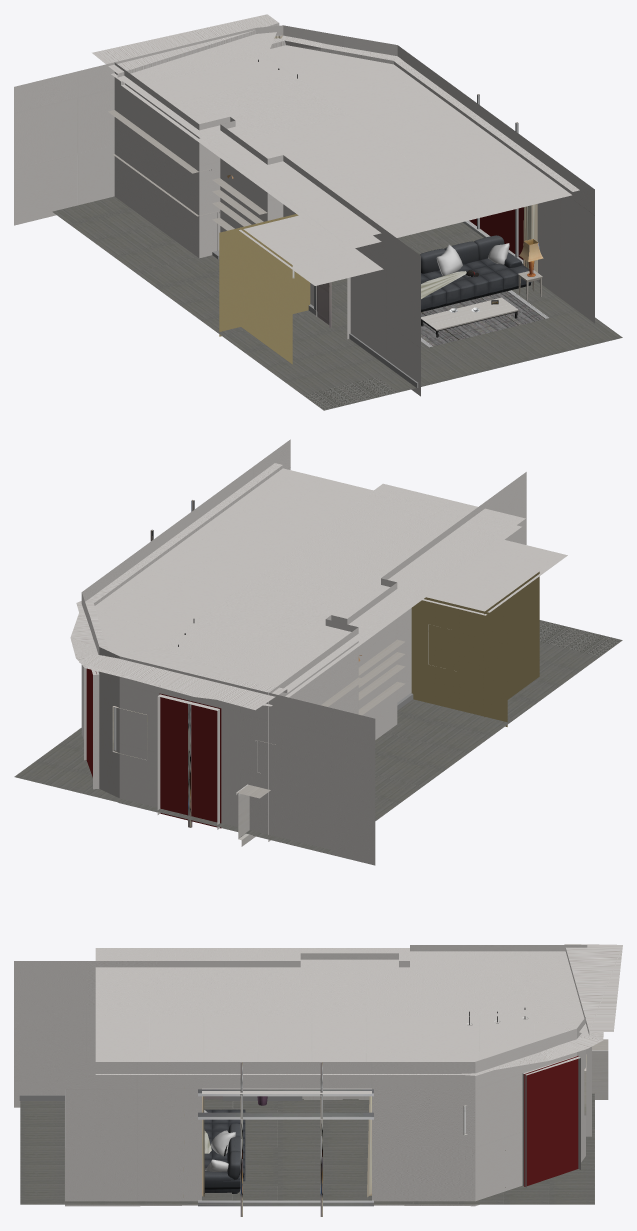
File: NvMingXingJia_03.FBX
3 views of the same model, one above another, from view 1: azimuth 30°, elevation 25°; view 2: azimuth 150°, elevation 25°; view 3: azimuth 270°, elevation 25° (orthographic). The views are drawn at different scales.
Parts seen in each view (by area): view 1: Object084, Plane013, objoct009, Plane011, Plane012, Object075, default001, 021, Object080, Box039, Object091, Box029 (+4 smaller); view 2: Object084, Plane011, Plane013, objoct009, Object075, Plane012, Object091, Box029, Box078; view 3: Plane011, Object084, Plane013, objoct009, Plane012, Object091, Object080, Box022, Box069, default001, Box078, Box070 (+2 smaller).
Part boxes in pixels (<box>): Object084: <box>92,14,477,242</box>; Plane013: <box>111,35,579,285</box>; objoct009: <box>52,196,622,410</box>; Plane011: <box>14,25,594,323</box>; Plane012: <box>114,62,420,396</box>; Object075: <box>219,214,310,364</box>; default001: <box>421,258,531,311</box>; 021: <box>421,290,548,347</box>; Object080: <box>420,235,522,273</box>; Box039: <box>421,297,518,330</box>; Object091: <box>469,207,523,259</box>; Box029: <box>212,178,267,230</box>; Object084: <box>79,483,525,710</box>; Plane011: <box>81,439,375,865</box>; Plane013: <box>70,463,567,706</box>; objoct009: <box>14,620,622,854</box>; Object075: <box>411,571,539,726</box>; Plane012: <box>268,472,526,841</box>; Object091: <box>86,668,221,828</box>; Box029: <box>358,639,405,715</box>; Box078: <box>236,784,270,846</box>; Plane011: <box>65,1017,591,1206</box>; Object084: <box>95,944,622,1035</box>; Plane013: <box>95,1016,603,1075</box>; objoct009: <box>20,1093,594,1204</box>; Plane012: <box>14,945,587,1107</box>; Object091: <box>524,1056,578,1186</box>; Object080: <box>204,1123,243,1193</box>; Box022: <box>198,1112,373,1119</box>; Box069: <box>198,1200,373,1206</box>; default001: <box>204,1109,245,1181</box>; Box078: <box>592,1039,608,1099</box>; Box070: <box>198,1089,373,1096</box>.
Bounding box in the file's own units: 5536 × 2293 × 8223.
